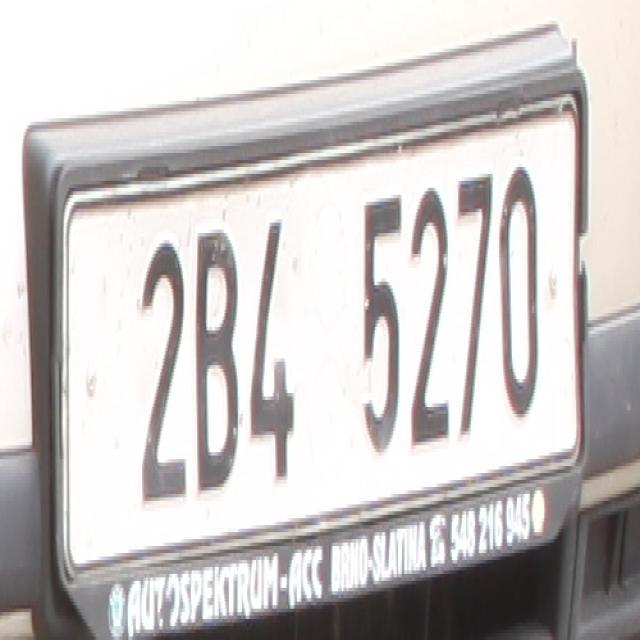0: (499, 166, 540, 418)
2: (140, 240, 186, 498), (409, 180, 452, 438)
4: (247, 219, 294, 491)
5: (362, 195, 403, 452)
7: (457, 167, 493, 442)
B: (194, 215, 240, 490)
